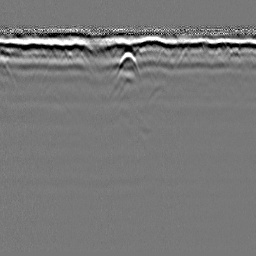cavity: (113, 50, 141, 78)
